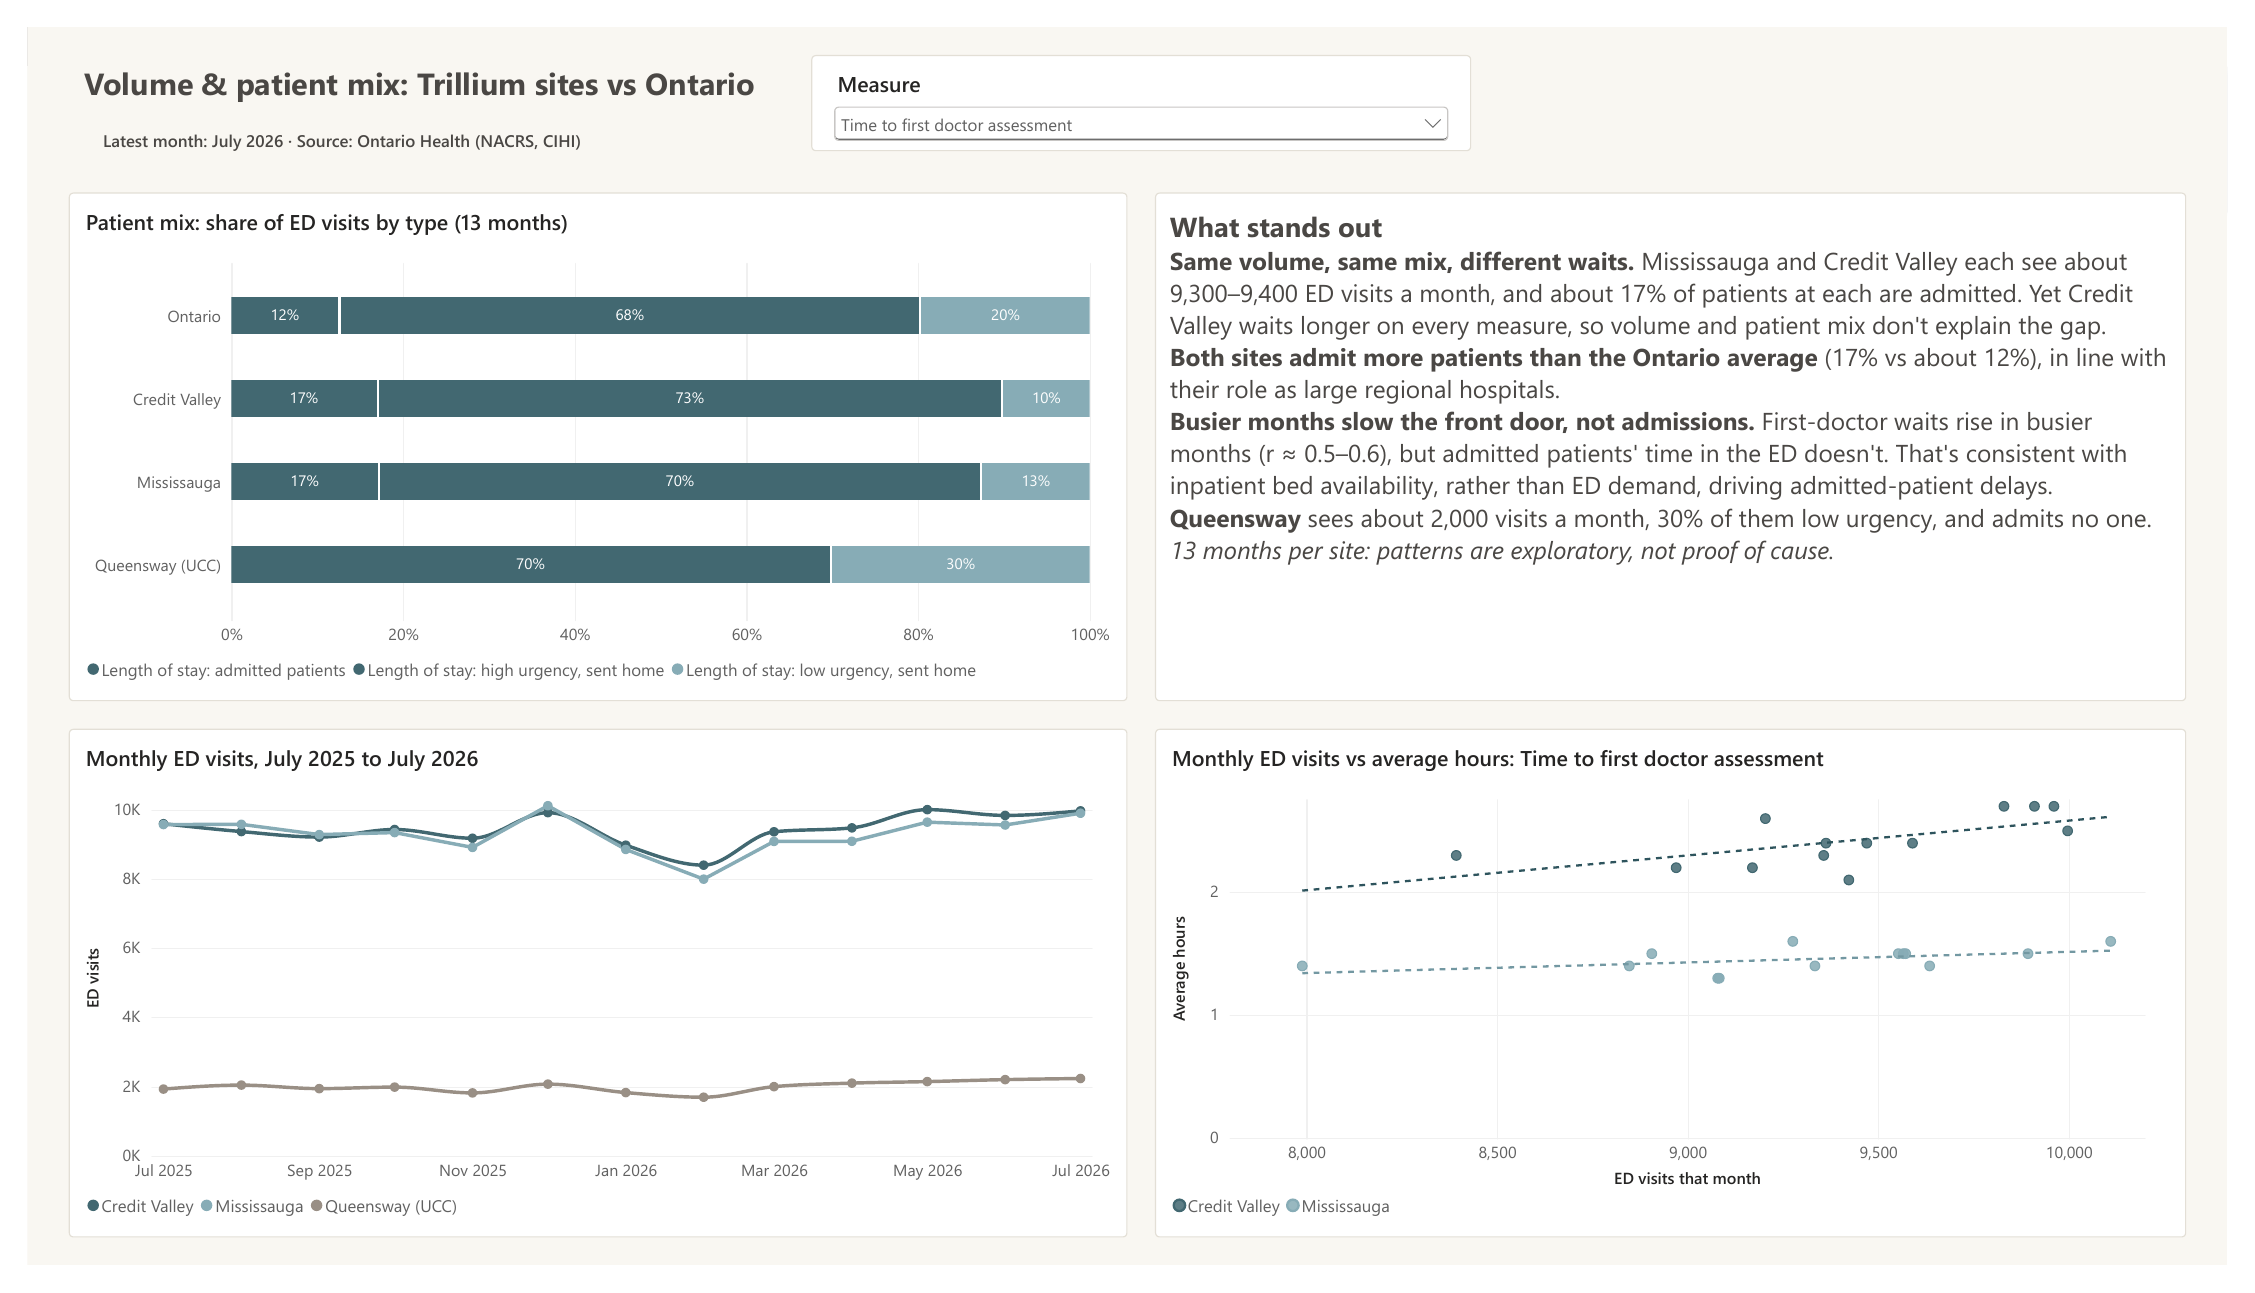

What the dashboard file says about the page in this screenshot:
{"tool":"powerbi","page":{"name":"Volume & patient mix","canvas":[1920,1080],"ordinal":3},"visuals":[{"type":"textbox","box":[36,18,630,60],"z":0},{"type":"cardVisual","fields":{"Data":["_Measures.Page Subtitle"]},"box":[36,78,630,42],"z":1000},{"type":"hundredPercentStackedBarChart","title":"Patient mix: share of ED visits by type (13 months)","fields":{"Category":["ED_Trends.Location"],"Series":["Measure_Info.Measure_Label"],"Y":["_Measures.Patient Volume"]},"box":[36,144,924,444],"z":2000},{"type":"slicer","fields":{"Values":["Measure_Info.Measure_Label"]},"box":[684,24,576,84],"z":3000},{"type":"lineChart","title":"Monthly ED visits, July 2025 to July 2026","fields":{"Category":["ED_Trends.Date"],"Series":["ED_Trends.Location"],"Y":["_Measures.Monthly Visits"]},"box":[36,612,924,444],"z":4000},{"type":"scatterChart","fields":{"Category":["ED_Trends.Date"],"Series":["ED_Trends.Location"],"X":["_Measures.Monthly Visits"],"Y":["_Measures.Avg Hours"]},"box":[984,612,900,444],"z":5000},{"type":"textbox","box":[984,144,900,444],"z":6000}]}

Visuals, with their boxes in screenshot pixels (x1, y1, x2, y2), scaled from the page's 1920x1080 canvas onto the 2255x1293 screenshot:
textbox: rect(42, 22, 782, 93)
cardVisual - _Measures.Page Subtitle: rect(42, 93, 782, 144)
"Patient mix: share of ED visits by type (13 months)" hundredPercentStackedBarChart: rect(42, 172, 1128, 704)
slicer - Measure_Info.Measure_Label: rect(803, 29, 1480, 129)
"Monthly ED visits, July 2025 to July 2026" lineChart: rect(42, 733, 1128, 1264)
scatterChart - ED_Trends.Date x ED_Trends.Location: rect(1156, 733, 2213, 1264)
textbox: rect(1156, 172, 2213, 704)
